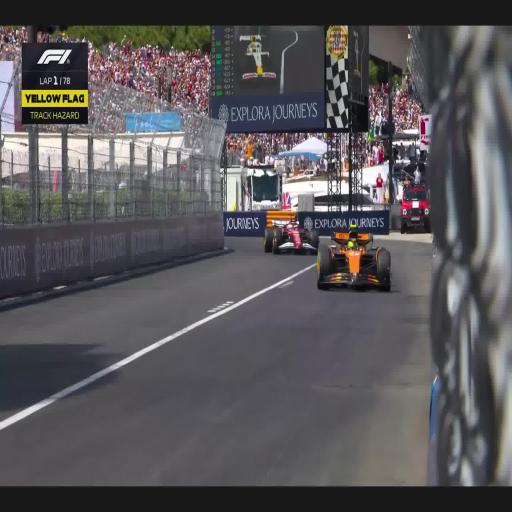f1_car: (317, 230, 391, 290), (265, 211, 319, 254)
